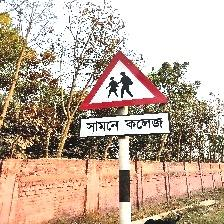College-in-front: (81, 60, 181, 152)
